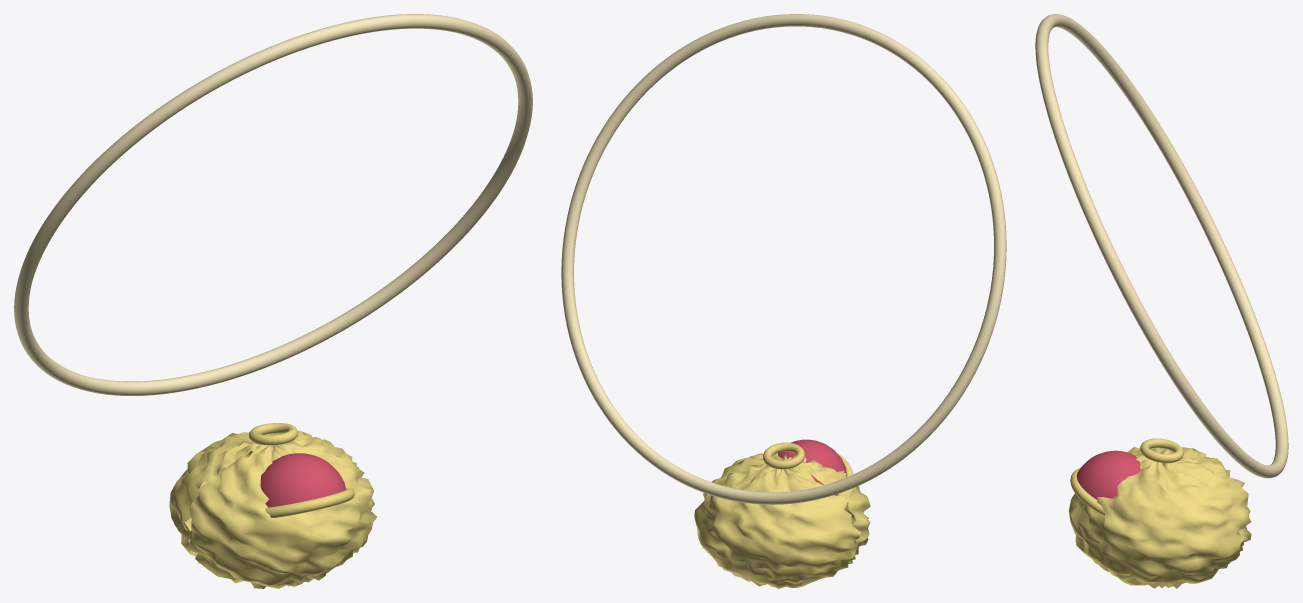
The model's file is bhaav-hammered-ruby-pendant.glb.
3 views of the same model, side by side, from view 1: azimuth 30°, elevation 25°; view 2: azimuth 150°, elevation 25°; view 3: azimuth 270°, elevation 25° (orthographic). The views are drawn at different scales.
Visible parts, largest first — view 1: bhaav-hammered-ruby-pendant; view 2: bhaav-hammered-ruby-pendant; view 3: bhaav-hammered-ruby-pendant.
Boxes of the visible parts, left/top/right/bottom form: bhaav-hammered-ruby-pendant: left=14, top=14, right=532, bottom=588; bhaav-hammered-ruby-pendant: left=561, top=14, right=1006, bottom=588; bhaav-hammered-ruby-pendant: left=1035, top=14, right=1288, bottom=588.
Size of the model in its own units: 2.94 by 3.39 by 1.45.
